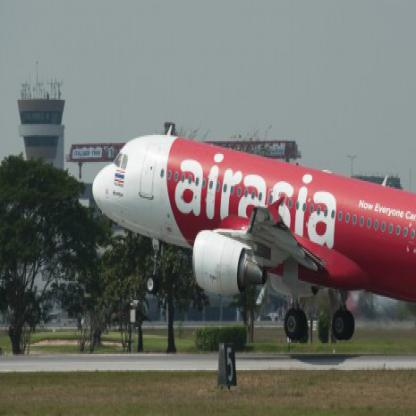CIV_Plane: (88, 122, 414, 350)
